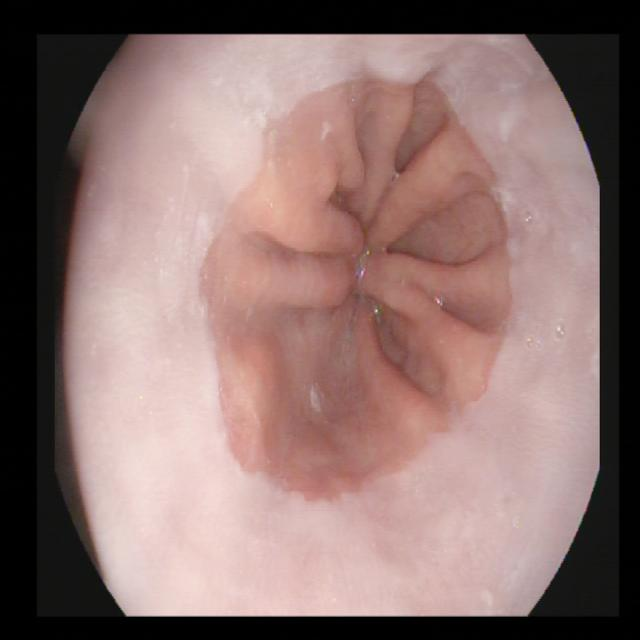Normal-Z-Line: (193, 75, 519, 505)
